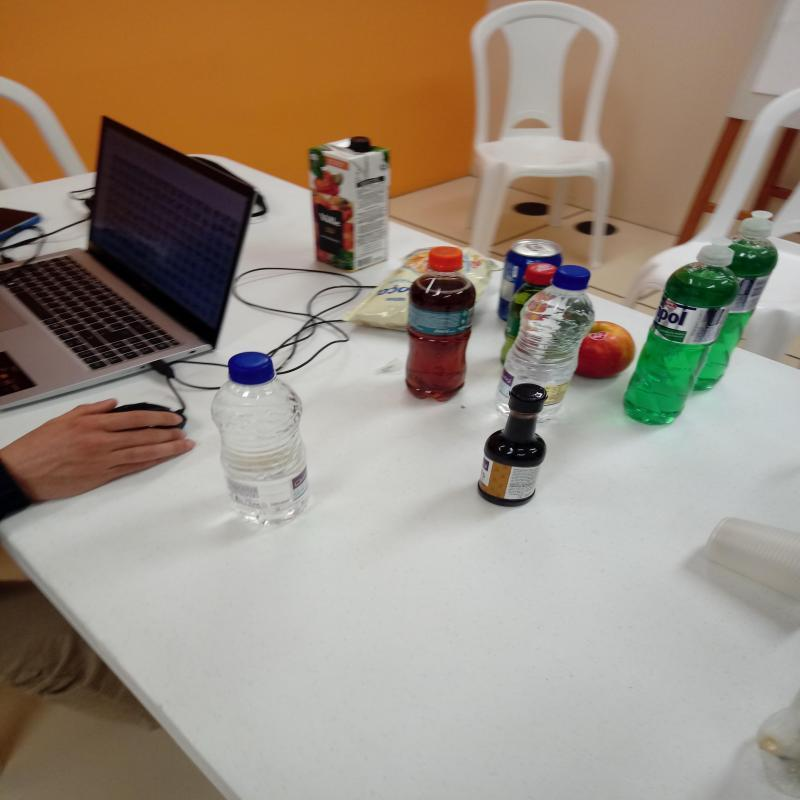Apple: (575, 320, 637, 378)
Cleaner: (621, 244, 744, 431), (695, 213, 782, 385)
CornFlakes: (352, 246, 494, 336)
EnglishSauce: (479, 387, 546, 506)
Guarana: (501, 265, 556, 352)
IceTea: (407, 247, 478, 400)
Tonic: (500, 241, 560, 322)
Water: (211, 350, 314, 524), (499, 264, 596, 412)
